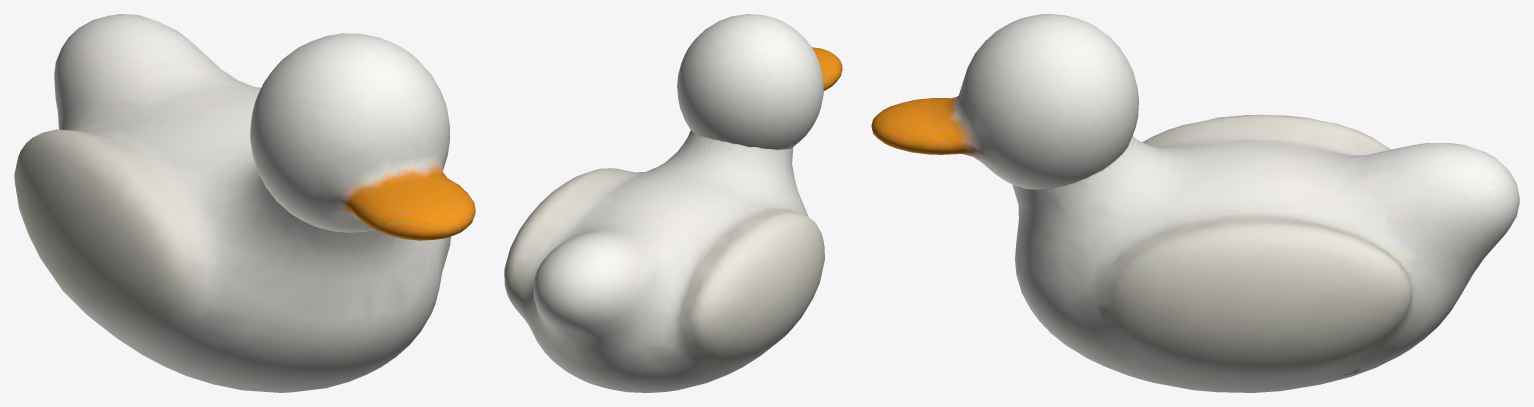
The model's file is animal_duck.glb.
3 renders of one model, left to right at view 1: azimuth 30°, elevation 25°; view 2: azimuth 150°, elevation 25°; view 3: azimuth 270°, elevation 25°, orthographic. The views are drawn at different scales.
Visible parts, largest first — view 1: animal_duck, head; view 2: animal_duck, head; view 3: animal_duck, head.
Boxes of the visible parts, x1,y1,x2,y2 form: animal_duck: [14, 14, 450, 392]; head: [250, 33, 475, 240]; animal_duck: [504, 130, 824, 392]; head: [677, 14, 842, 149]; animal_duck: [1012, 114, 1519, 392]; head: [871, 14, 1138, 189].
Size of the model in its own units: 0.1624 by 0.1818 by 0.3046.
1 material, 1 textured.
